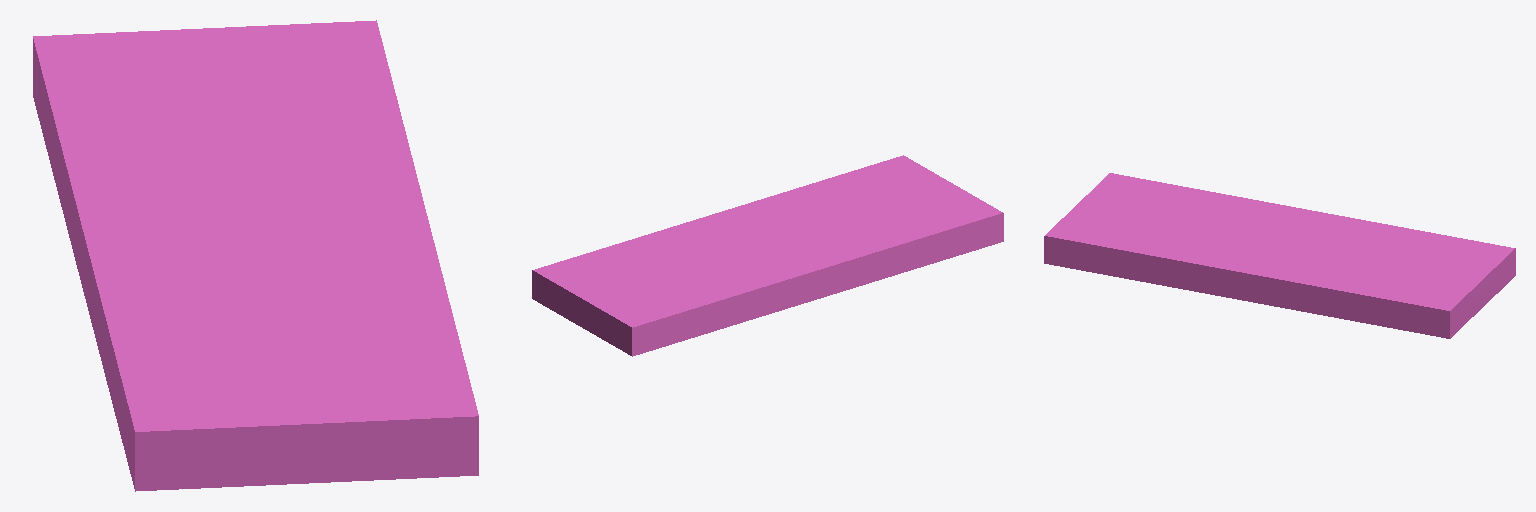
robot.urdf — Interference:
<?xml version="1.0"?>
<robot name="Interference">
  <link name="baseLink">
    <inertial>
      <origin xyz="0.0 0.0 0.0" rpy="0.0 0.0 0.0"/>
      <inertia ixx="0.0" ixy="0.0" ixz="0.0" iyy="0.0" iyz="0.0" izz="0.0"/>
      <mass value="0"/>
    </inertial>
    <visual>
      <origin xyz="0.0 0.0 0.0" rpy="0.0 0.0 1.156003258282345"/>
      <geometry>
        <box size="0.14389114977175593 0.052853959966987114 0.01"/>
      </geometry>
      <material name="color">
        <color rgba="0.9260268956718943 0.48005348354977073 0.8235791550799071 1.0"/>
      </material>
    </visual>
  </link>
</robot>

--- Render facts (derived) ---
3 views of the same robot in one strip: view 1: azimuth 30°, elevation 25°; view 2: azimuth 150°, elevation 25°; view 3: azimuth 270°, elevation 25° (orthographic).
Robot: Interference — 1 links, 0 joints (none); root link baseLink; default pose: every joint at zero.
Visible links, largest first — view 1: baseLink; view 2: baseLink; view 3: baseLink.
Boxes of the visible links, x1,y1,x2,y2 form: baseLink: (33,20,478,491); baseLink: (532,155,1003,356); baseLink: (1044,173,1515,338).
Bounding box of the posed robot: 0.1064 × 0.153 × 0.01 m (x, y, z).
Geometry: primitives only (box / cylinder / sphere), no mesh files.